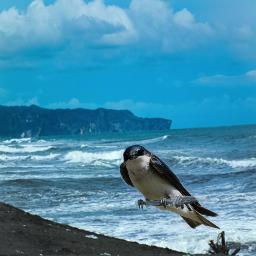Swallow: (119, 145, 220, 230)
